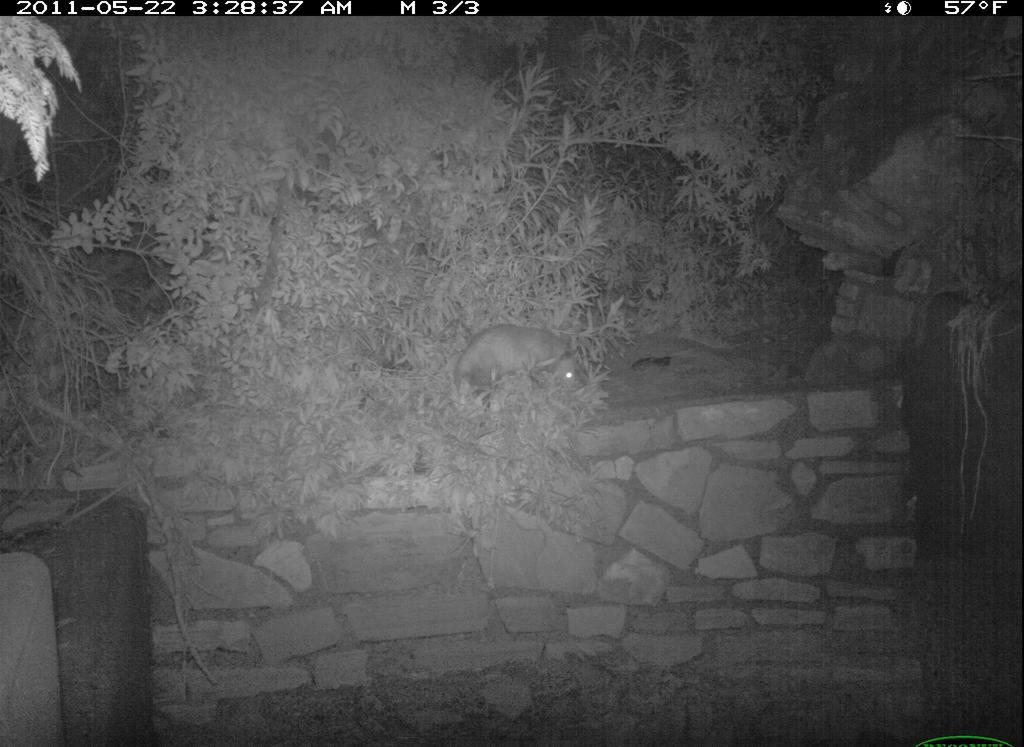opossum: (443, 312, 596, 410)
